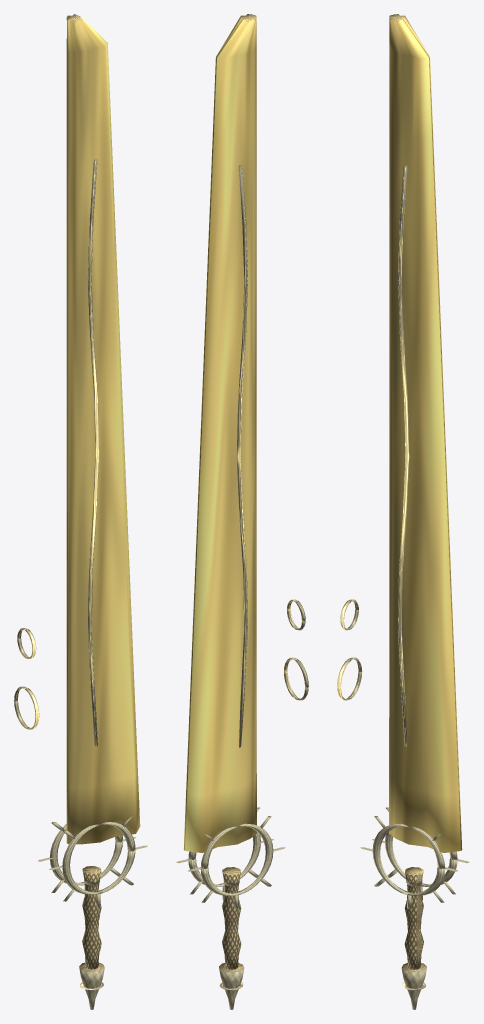
Rendered from sword_11_solstice_relic.glb.
The picture shows the model from 3 angles, left to right: view 1: azimuth 30°, elevation 25°; view 2: azimuth 210°, elevation 25°; view 3: azimuth 330°, elevation 25°; orthographic projection.
Visible parts, largest first — view 1: Blade_SolsticeRelic, Inlay_RedemptionFlames, Guard_SunDisc, Grip_SolsticeSilk, Pommel_SunOrb, Halo_MartyrRings; view 2: Blade_SolsticeRelic, Inlay_RedemptionFlames, Guard_SunDisc, Grip_SolsticeSilk, Pommel_SunOrb, Halo_MartyrRings; view 3: Blade_SolsticeRelic, Inlay_RedemptionFlames, Guard_SunDisc, Grip_SolsticeSilk, Pommel_SunOrb, Halo_MartyrRings.
Boxes of the visible parts, x1,y1,x2,y2 form: Blade_SolsticeRelic: (66, 14, 140, 844); Inlay_RedemptionFlames: (87, 159, 99, 746); Guard_SunDisc: (38, 816, 147, 907); Grip_SolsticeSilk: (82, 866, 101, 969); Pommel_SunOrb: (79, 962, 104, 1009); Halo_MartyrRings: (14, 628, 39, 729); Blade_SolsticeRelic: (183, 14, 256, 852); Inlay_RedemptionFlames: (236, 165, 247, 747); Guard_SunDisc: (176, 807, 285, 908); Grip_SolsticeSilk: (222, 867, 241, 969); Pommel_SunOrb: (219, 963, 244, 1009); Halo_MartyrRings: (284, 599, 308, 700); Blade_SolsticeRelic: (389, 14, 462, 852); Inlay_RedemptionFlames: (398, 165, 409, 747); Guard_SunDisc: (360, 807, 469, 908); Grip_SolsticeSilk: (404, 867, 423, 969); Pommel_SunOrb: (401, 963, 426, 1009); Halo_MartyrRings: (337, 599, 362, 700).
Bounding box in the file's own units: 0.3206 × 2.6 × 0.1118.
Materials: 1 (1 with a texture image).
